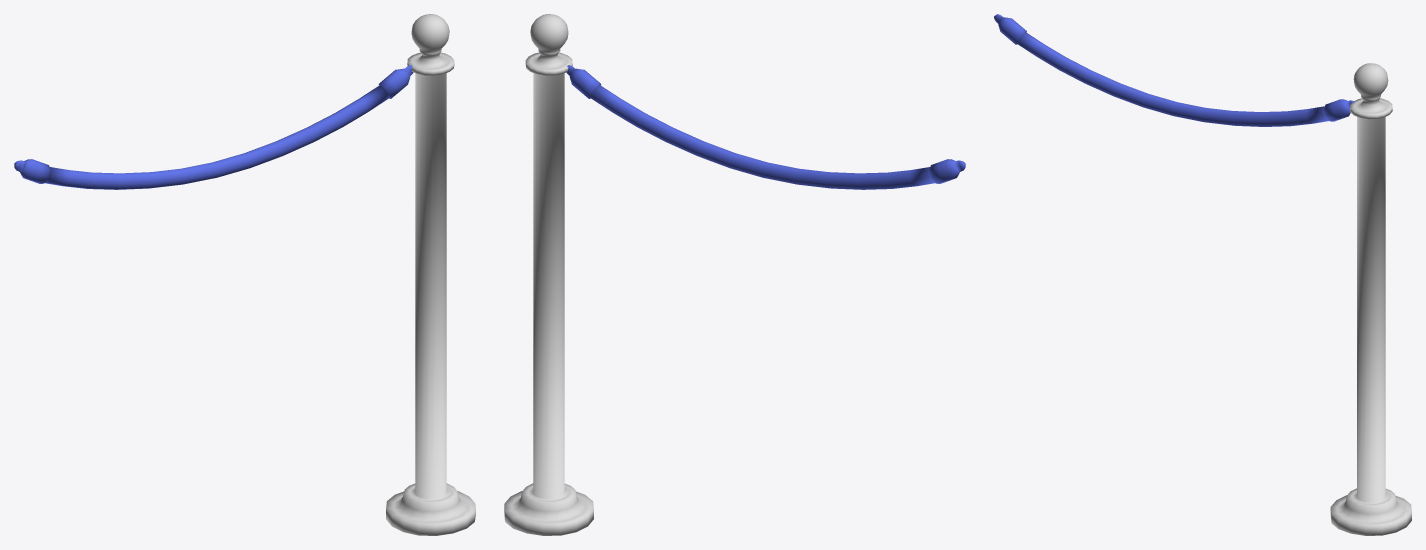
The model's file is model_bletBarrier_02.fbx.
3 renders of one model, left to right at view 1: azimuth 30°, elevation 25°; view 2: azimuth 150°, elevation 25°; view 3: azimuth 330°, elevation 25°, orthographic. The views are drawn at different scales.
Parts seen in each view (by area): view 1: Plane.024; view 2: Plane.024; view 3: Plane.024.
Boxes of the visible parts, x1=… form: Plane.024: x1=14, y1=14, x2=475, y2=535; Plane.024: x1=504, y1=14, x2=965, y2=535; Plane.024: x1=994, y1=14, x2=1411, y2=535.
Size of the model in its own units: 105 by 111 by 17.95.
